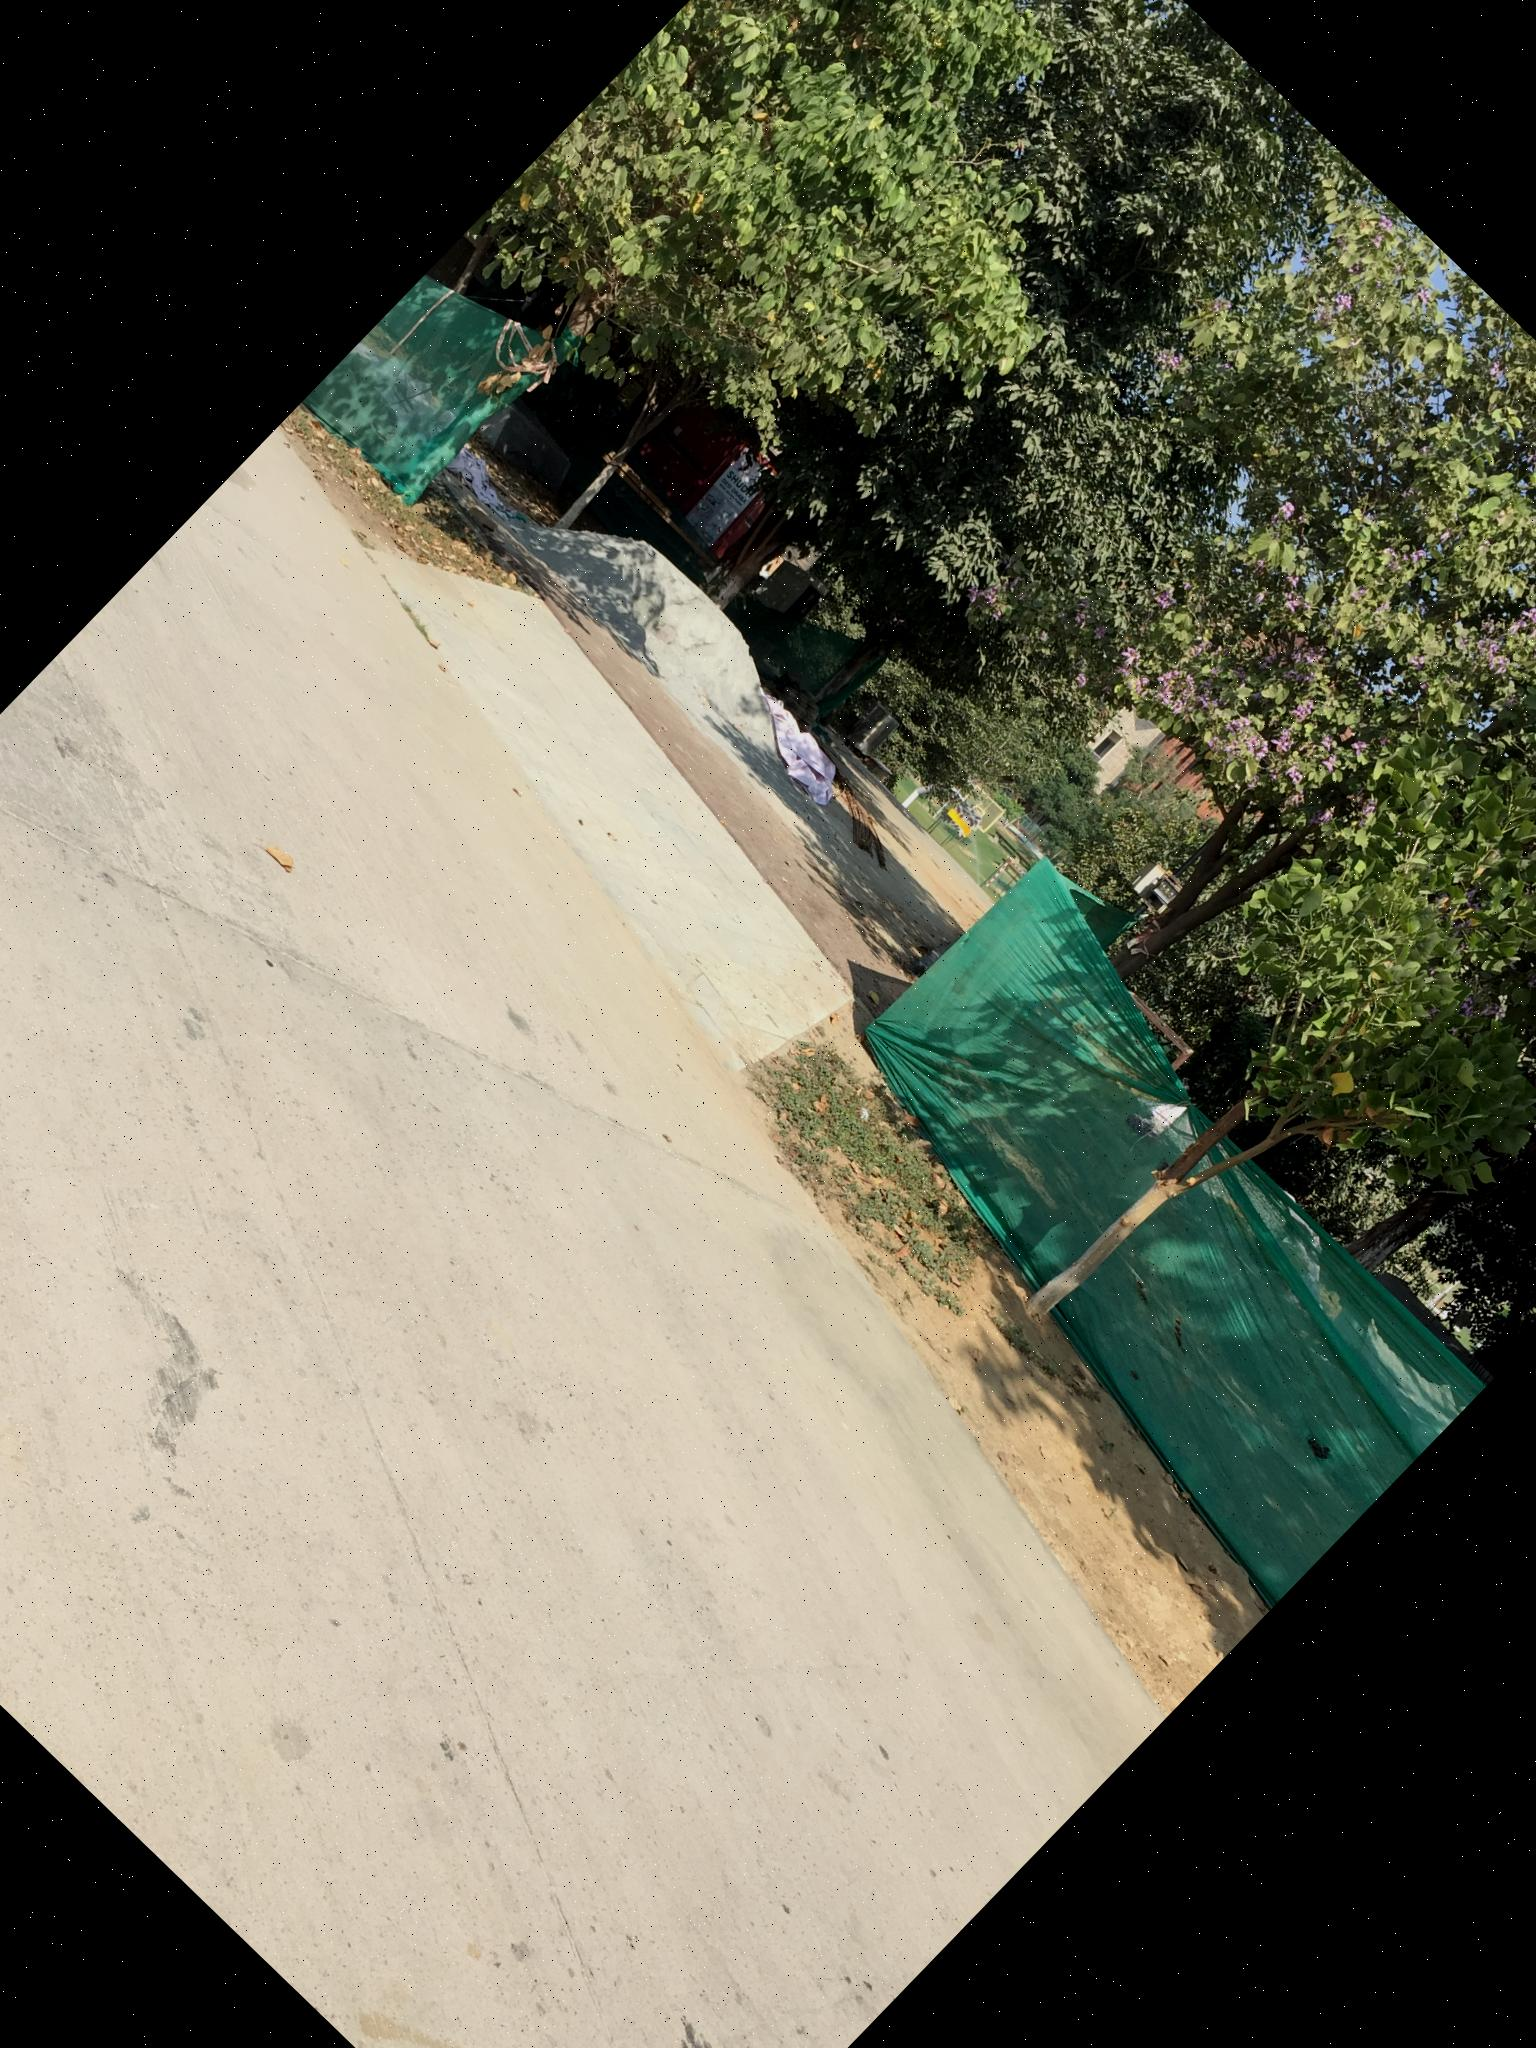chair: (920, 786, 987, 855)
